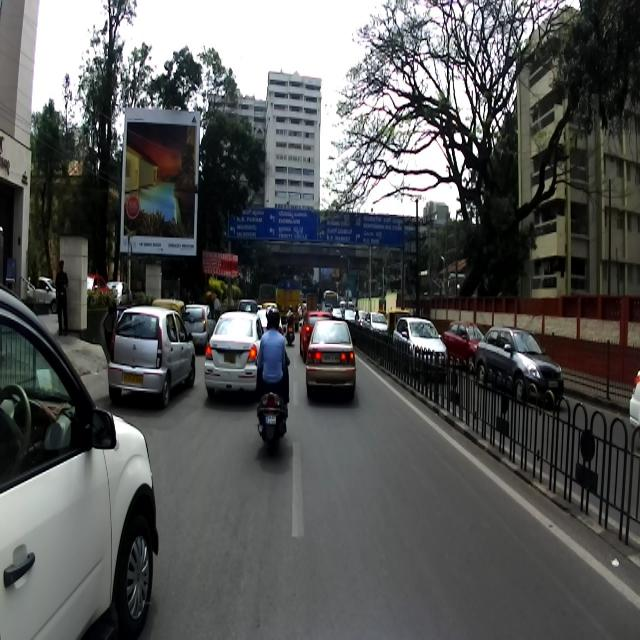Car_Mahindra: (0, 289, 159, 639)
Car_Maruti-Suzuki: (473, 326, 563, 404), (204, 310, 264, 399), (305, 318, 356, 402)
Car_TATA: (98, 305, 195, 406)
scooter: (256, 350, 288, 455)
